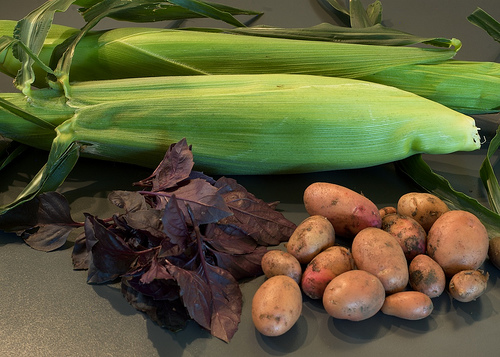corn: (1, 1, 483, 213)
